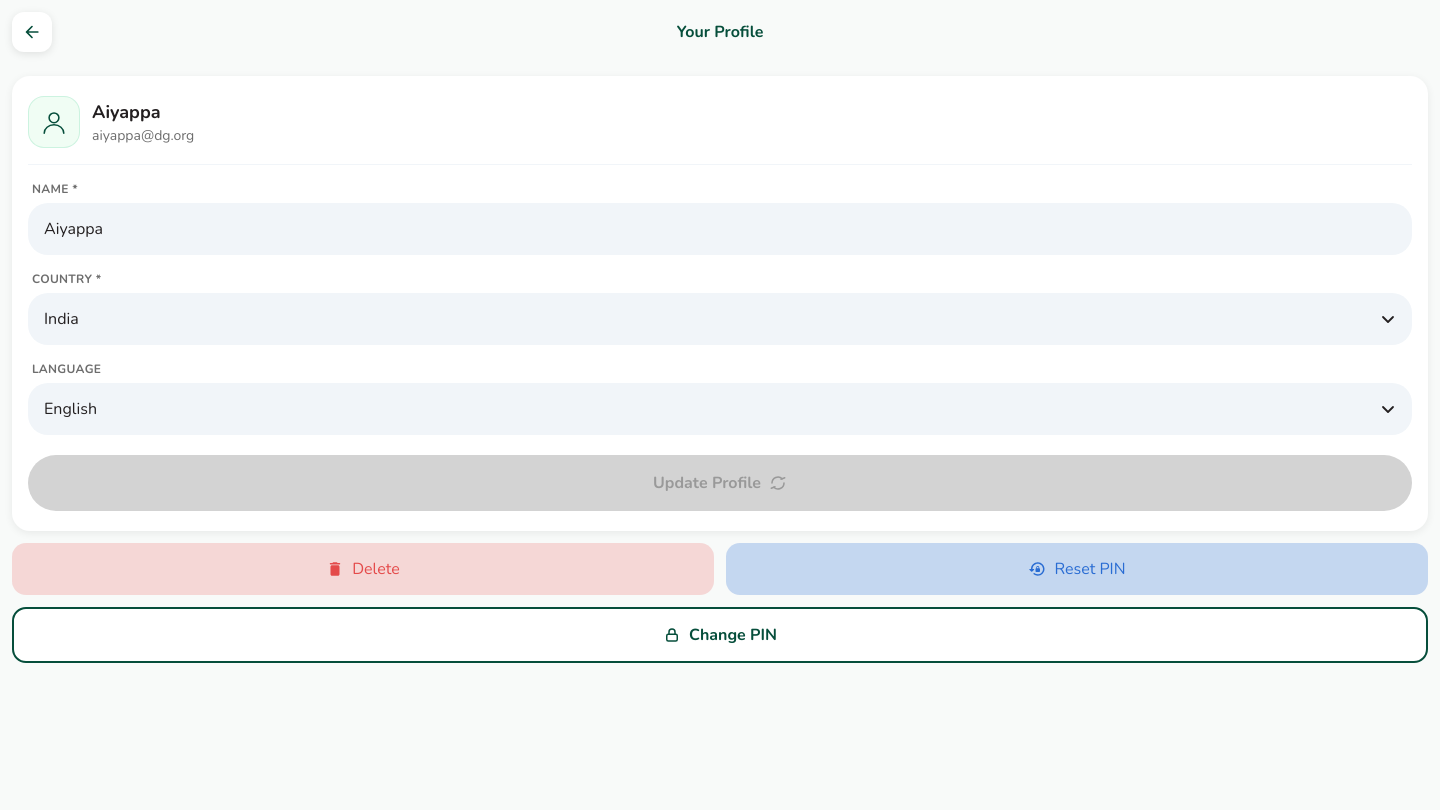
Profile — Update Profile call › updating language ALONE still enables Save (canSave includes language change)
Expected: the field is shown, [28,203,1412,255]
Select "বাংলা" in the dropdown named "Language" at {"x": 720, "y": 409}, box [28,383,1412,435]
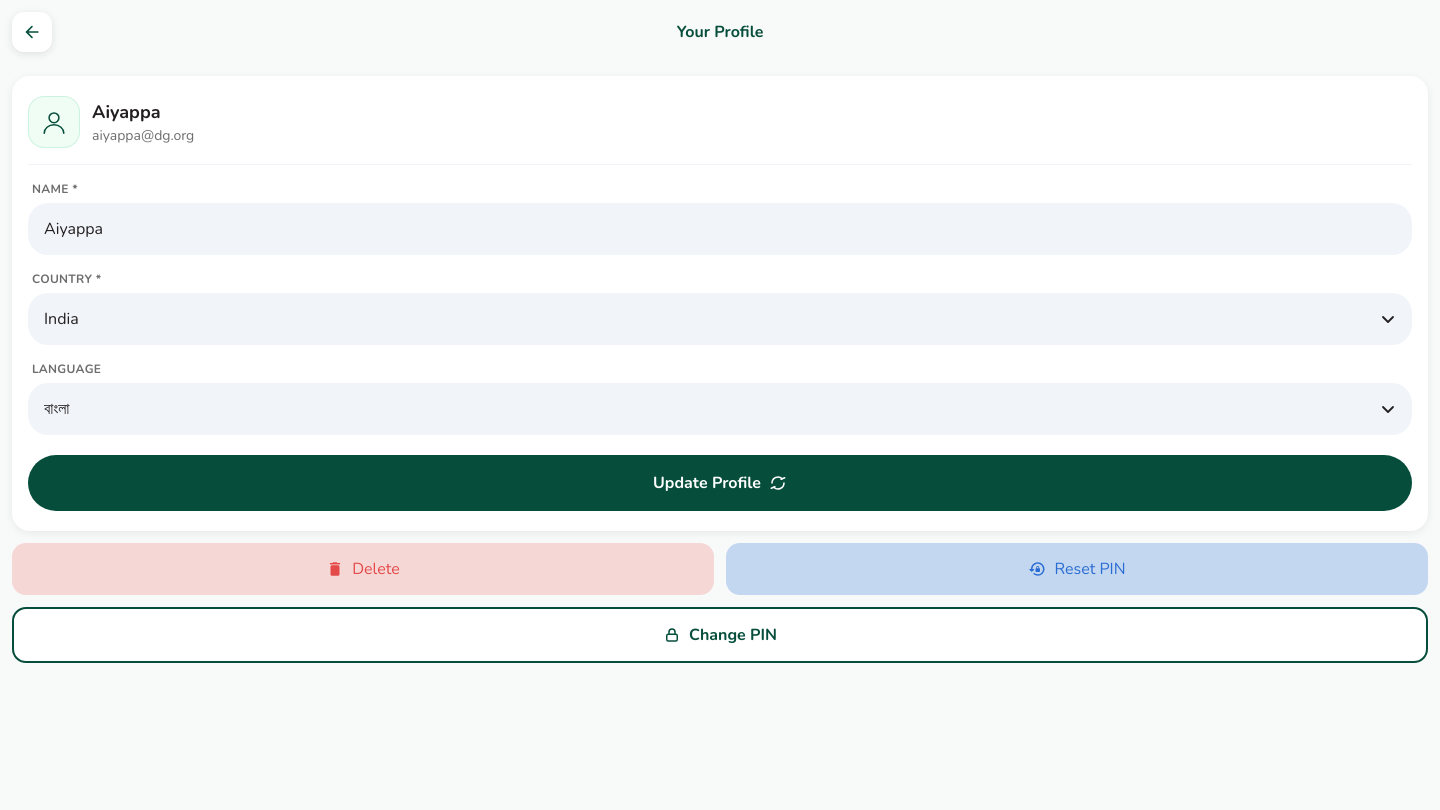
Expected: the button "Update Profile" is enabled, [28,455,1412,511]
